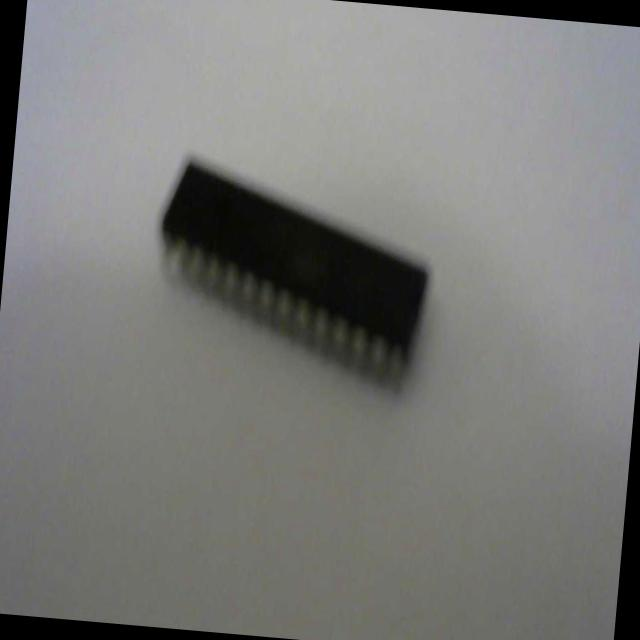atmega: (144, 147, 441, 401)
